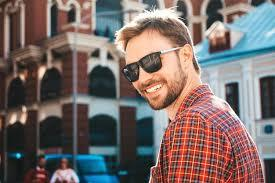sunglasses: (122, 43, 165, 88)
